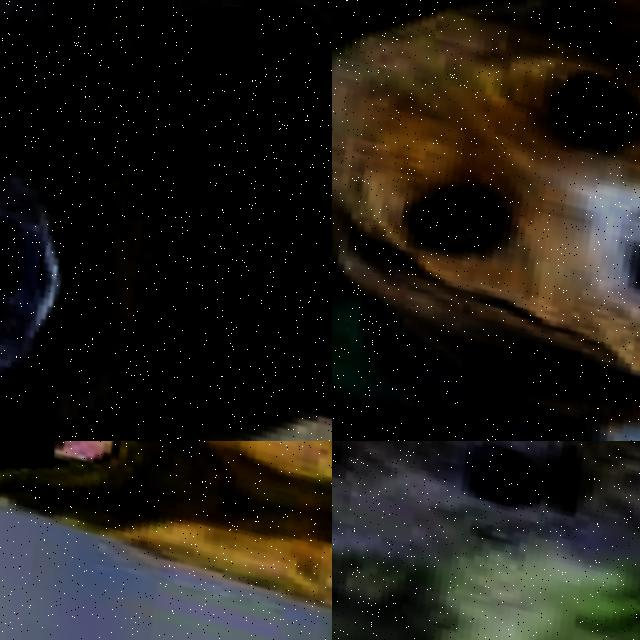dog: (332, 0, 640, 441), (0, 441, 332, 640)
wolf: (0, 0, 332, 441), (332, 441, 640, 640)
